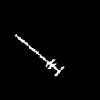treble_crochet: (15, 34, 63, 75)
